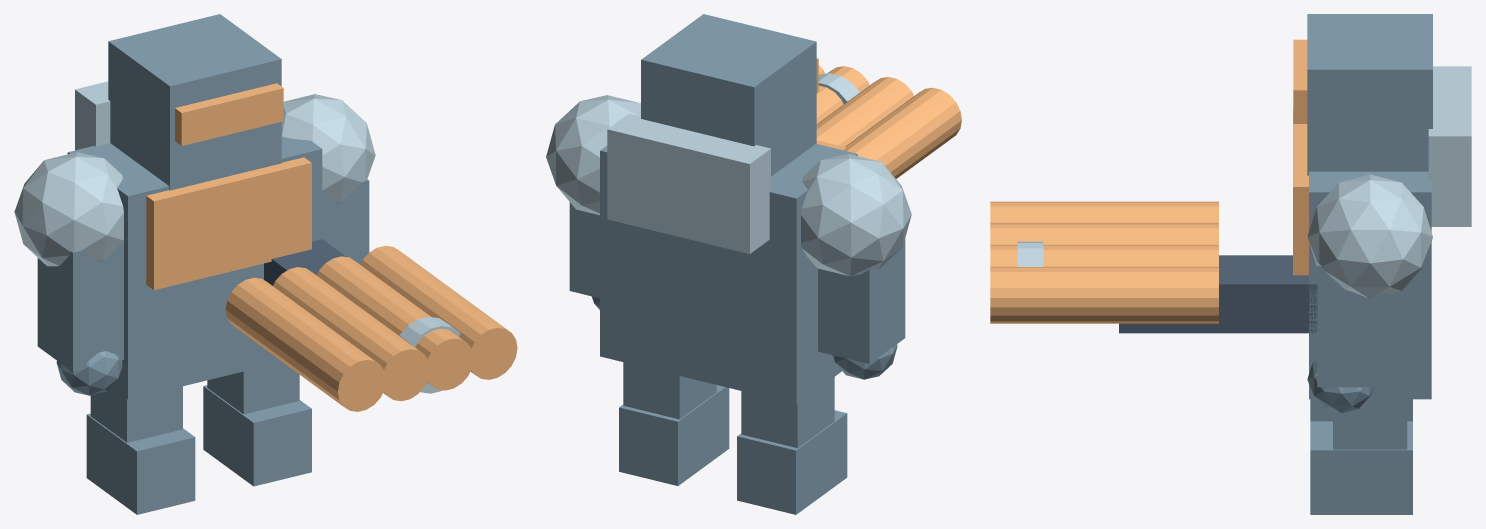
The model's file is siege_gunner.glb.
The picture shows the model from 3 angles, left to right: view 1: azimuth 30°, elevation 25°; view 2: azimuth 150°, elevation 25°; view 3: azimuth 270°, elevation 25°; orthographic projection.
Parts seen in each view (by area): view 1: helmet_6, torso_4, chestplate_5, shoulder_joint_8, gattling_barrel_18, arm_armor_9, boots_0, boots_2, gattling_barrel_19, gattling_barrel_21, gattling_barrel_20, shoulder_joint_11 (+8 smaller); view 2: torso_4, helmet_6, power_backpack_14, shoulder_joint_8, arm_armor_9, boots_0, boots_2, shoulder_joint_11, gattling_barrel_18, leg_armor_1, leg_armor_3, gattling_barrel_19 (+4 smaller); view 3: helmet_6, gattling_barrel_21, shoulder_joint_11, torso_4, weapon_body_15, boots_2, arm_armor_12, power_backpack_14, gattling_barrel_18, gattling_barrel_19, gattling_barrel_20, leg_armor_3 (+4 smaller).
Boxes of the visible parts, x1,y1,x2,y2 form: helmet_6: (108,14,281,190); torso_4: (67,136,322,399); chestplate_5: (146,157,311,290); shoulder_joint_8: (14,152,123,266); gattling_barrel_18: (225,277,386,411); arm_armor_9: (37,241,123,371); boots_0: (86,413,195,514); boots_2: (203,385,311,486); gattling_barrel_19: (273,267,429,401); gattling_barrel_21: (360,245,517,379); gattling_barrel_20: (316,256,473,390); shoulder_joint_11: (281,94,375,203); torso_4: (600,144,857,404); helmet_6: (641,14,816,176); power_backpack_14: (607,113,770,253); shoulder_joint_8: (801,154,911,276); arm_armor_9: (818,239,905,363); boots_0: (737,410,847,514); boots_2: (619,385,729,485); shoulder_joint_11: (546,95,640,215); gattling_barrel_18: (845,87,961,178); leg_armor_1: (741,377,834,448); leg_armor_3: (623,362,716,419); gattling_barrel_19: (816,77,913,146); helmet_6: (1307,14,1432,175); gattling_barrel_21: (990,267,1218,323); shoulder_joint_11: (1307,174,1432,298); torso_4: (1309,171,1431,399); weapon_body_15: (1119,255,1317,333); boots_2: (1310,421,1412,514); arm_armor_12: (1317,262,1388,387); power_backpack_14: (1428,66,1471,226); gattling_barrel_18: (990,201,1218,223); gattling_barrel_19: (990,223,1218,245); gattling_barrel_20: (990,245,1218,266); leg_armor_3: (1333,399,1407,449).
Size of the model in its own units: 1.42 by 1.66 by 1.69.
